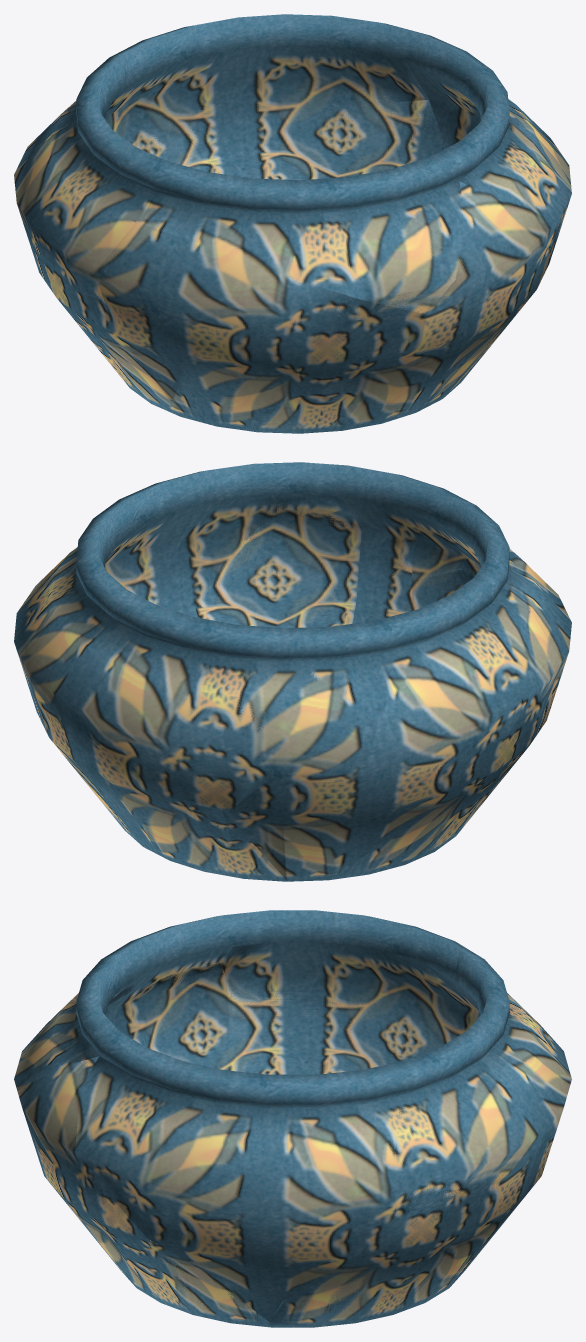
Rendered from vase.004.fbx.
The picture shows the model from 3 angles, top to bottom: view 1: azimuth 30°, elevation 25°; view 2: azimuth 150°, elevation 25°; view 3: azimuth 270°, elevation 25°; orthographic projection.
Visible parts, largest first — view 1: vase, vase_cell.002, vase_cell.001, vase_cell.007, vase_cell.004, vase_cell, vase_cell.006, vase_cell.003, vase_cell.005; view 2: vase, vase_cell.004, vase_cell.007, vase_cell.005, vase_cell.006, vase_cell.001, vase_cell.003, vase_cell, vase_cell.002; view 3: vase, vase_cell.003, vase_cell.004, vase_cell.007, vase_cell, vase_cell.005, vase_cell.006, vase_cell.001, vase_cell.002.
Boxes of the visible parts, bbox=[...] form: vase: bbox=[14, 14, 571, 433]; vase_cell.002: bbox=[98, 222, 425, 433]; vase_cell.001: bbox=[138, 146, 465, 313]; vase_cell.007: bbox=[104, 14, 428, 162]; vase_cell.004: bbox=[17, 58, 159, 282]; vase_cell: bbox=[176, 99, 445, 180]; vase_cell.006: bbox=[378, 181, 552, 423]; vase_cell.003: bbox=[404, 31, 571, 254]; vase_cell.005: bbox=[37, 252, 185, 418]; vase: bbox=[14, 462, 571, 881]; vase_cell.004: bbox=[271, 566, 561, 782]; vase_cell.007: bbox=[15, 542, 297, 810]; vase_cell.005: bbox=[232, 708, 537, 881]; vase_cell.006: bbox=[189, 500, 416, 628]; vase_cell.001: bbox=[313, 463, 535, 608]; vase_cell.003: bbox=[17, 462, 316, 614]; vase_cell: bbox=[18, 655, 282, 878]; vase_cell.002: bbox=[412, 569, 570, 652]; vase: bbox=[18, 910, 571, 1327]; vase_cell.003: bbox=[75, 1031, 415, 1300]; vase_cell.004: bbox=[221, 910, 480, 1038]; vase_cell.007: bbox=[371, 950, 565, 1186]; vase_cell: bbox=[266, 1179, 537, 1327]; vase_cell.005: bbox=[228, 993, 452, 1074]; vase_cell.006: bbox=[17, 1056, 281, 1326]; vase_cell.001: bbox=[14, 914, 234, 1091]; vase_cell.002: bbox=[30, 963, 230, 1070].
Bounding box in the file's own units: 0.8162 × 0.4241 × 0.8222.
